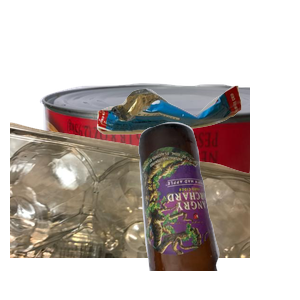glass: (136, 120, 300, 300)
metal: (37, 81, 277, 261)
plastic: (10, 120, 250, 300)
trash: (94, 83, 300, 210)
